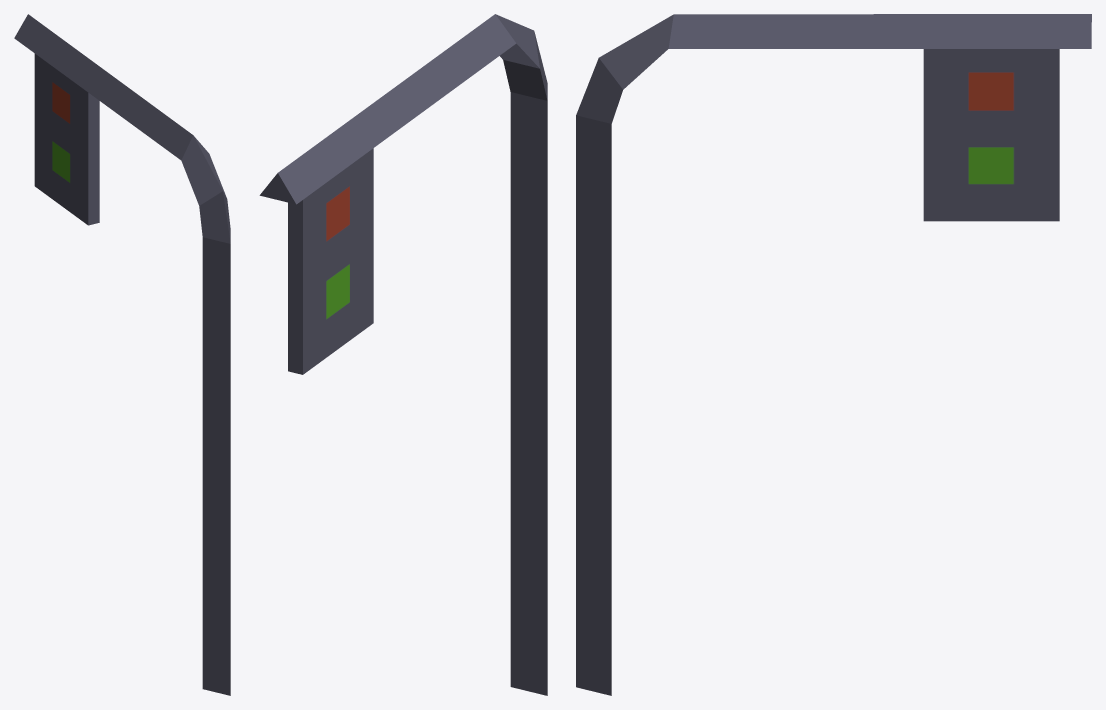
Rendered from fbTrafficLightMini.fbx.
The picture shows the model from 3 angles, left to right: view 1: azimuth 30°, elevation 25°; view 2: azimuth 150°, elevation 25°; view 3: azimuth 270°, elevation 25°; orthographic projection. The views are drawn at different scales.
Visible parts, largest first — view 1: Cylinder.008; view 2: Cylinder.008; view 3: Cylinder.008.
Boxes of the visible parts, x1,y1,x2,y2 form: Cylinder.008: (14,14,230,695); Cylinder.008: (259,14,547,695); Cylinder.008: (576,14,1091,695).
Bounding box in the file's own units: 34.85 × 607 × 421.
